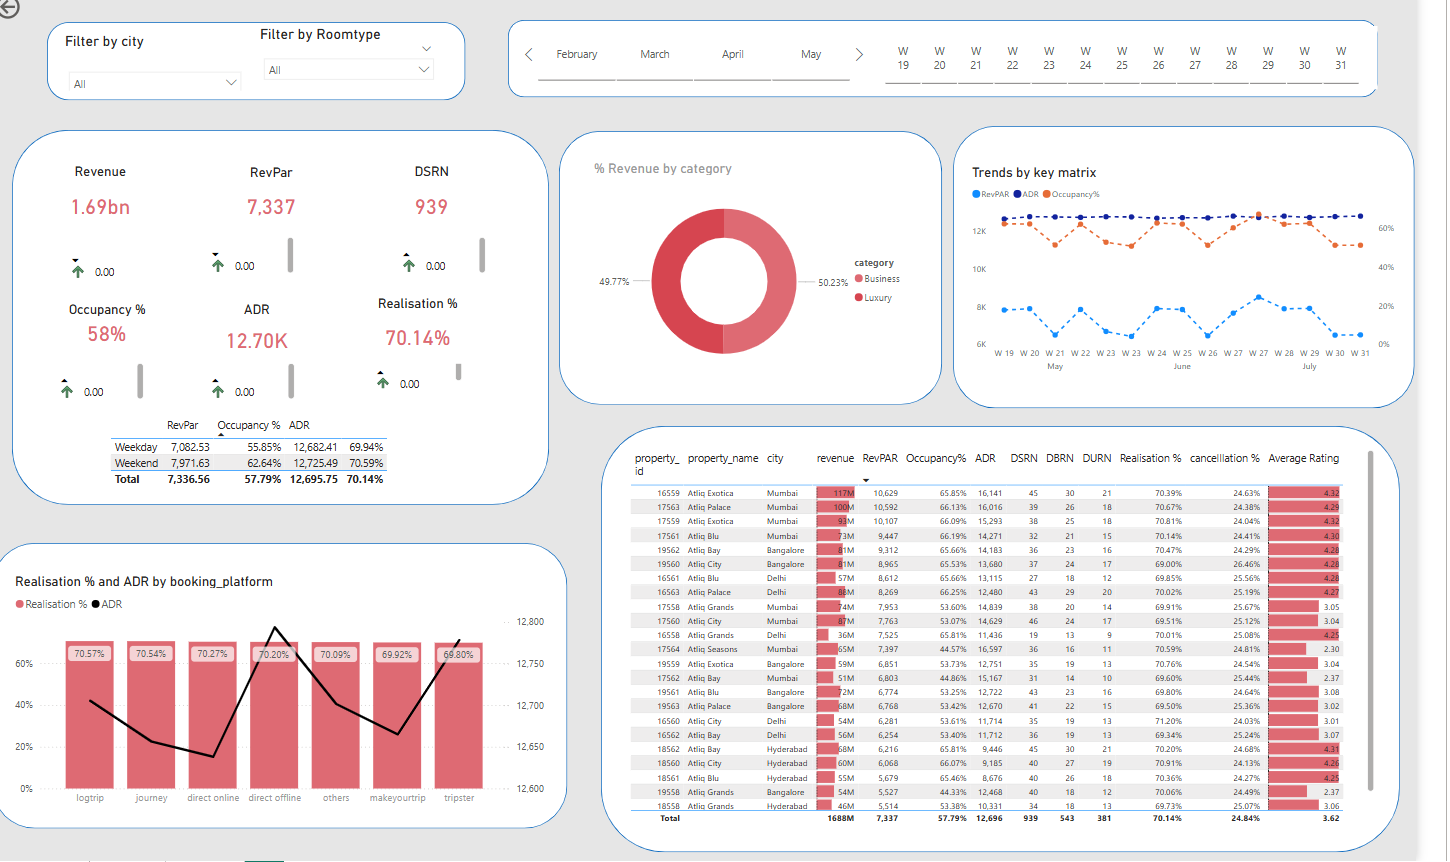

What the dashboard file says about the page in this screenshot:
{"tool":"powerbi","page":{"name":"Page 1","canvas":[1800,1100],"ordinal":0},"visuals":[{"type":"shape","box":[770,550,1010.4,539.1],"z":0},{"type":"shape","box":[0,698,727.9,361.2],"z":1000},{"type":"shape","box":[1215.4,171.1,584,357.2],"z":2000},{"type":"shape","box":[717,176.5,484.8,346.3],"z":3000},{"type":"shape","box":[25.8,175.2,679,474],"z":4000},{"type":"shape","box":[651.9,36.7,1100,97.8],"z":5000},{"type":"shape","box":[69.3,39.4,529.6,99.1],"z":6000},{"type":"tableEx","fields":{"Values":["dim_hotels.property_id","dim_hotels.property_name","dim_hotels.city","key measures.revenue","key measures.RevPAR","key measures.Occupancy%","key measures.ADR","key measures.DSRN","key measures.DBRN","key measures.DURN","key measures.Realisation %","key measures.cancelllation %"]},"box":[801.2,575.8,950.6,483.5],"z":7000},{"type":"donutChart","title":"% Revenue by category","fields":{"Category":["dim_hotels.category"],"Y":["key measures.Occupancy%"]},"box":[756.4,213.2,407.4,287.9],"z":8000},{"type":"lineChart","title":"Trends by key matrix","fields":{"Category":["dim_date.mmm yy.Variation.Date Hierarchy.Month","dim_date.week no"],"Y":["key measures.RevPAR","key measures.ADR"],"Y2":["key measures.Occupancy%"]},"box":[1234.4,218.6,545.9,277],"z":9000},{"type":"lineStackedColumnComboChart","fields":{"Category":["fact_bookings.booking_platform"],"Y":["key measures.Realisation %"],"Y2":["key measures.ADR"]},"box":[24.4,736,679,302.8],"z":10000},{"type":"tableEx","fields":{"Values":["dim_date.day_type","key measures.RevPAR","key measures.Occupancy%","key measures.ADR","key measures.Realisation %"]},"box":[144,533.7,407.4,101.9],"z":11000},{"type":"actionButton","box":[0,0,100,40],"z":12000},{"type":"tableEx","fields":{"Values":["key measures.Revenue WoW change %"]},"box":[507.9,305.6,120.9,55.7],"z":13000},{"type":"tableEx","fields":{"Values":["key measures.Revenue WoW change %"]},"box":[76,465.8,120.9,55.7],"z":14000},{"type":"tableEx","fields":{"Values":["key measures.Revenue WoW change %"]},"box":[266.2,465.8,120.9,55.7],"z":15000},{"type":"tableEx","fields":{"Values":["key measures.Revenue WoW change %"]},"box":[475.3,454.9,123.6,51.6],"z":16000},{"type":"card","title":"Occupancy %","fields":{"Values":["key measures.Occupancy%"]},"box":[59.8,392.5,172.5,62.5],"z":17000},{"type":"card","title":"ADR","fields":{"Values":["key measures.ADR"]},"box":[248.5,392.5,171.1,78.8],"z":18000},{"type":"card","title":"Realisation %","fields":{"Values":["key measures.Realisation %"]},"box":[452.2,384.3,171.1,86.9],"z":19000},{"type":"card","title":"DSRN","fields":{"Values":["key measures.DSRN"]},"box":[469.9,217.3,171.1,88.3],"z":20000},{"type":"tableEx","fields":{"Values":["key measures.Revenue WoW change %"]},"box":[266.2,305.6,119.5,55.7],"z":21000},{"type":"card","title":"RevPar","fields":{"Values":["key measures.RevPAR"]},"box":[266.2,218.6,172.5,86.9],"z":22000},{"type":"card","title":"Revenue","fields":{"Values":["key measures.revenue"]},"box":[50.2,217.3,172.5,88.3],"z":23000},{"type":"slicer","fields":{"Values":["dim_date.mmm yy.Variation.Date Hierarchy.Month"]},"box":[665.4,39.4,442.7,81.5],"z":24000},{"type":"slicer","fields":{"Values":["dim_date.week no"]},"box":[1104.1,44.8,647.8,80.1],"z":25000},{"type":"slicer","title":"Filter by city","fields":{"Values":["dim_hotels.city"]},"box":[86.9,53,237.7,73.3],"z":26000},{"type":"slicer","title":"Filter by Roomtype","fields":{"Values":["dim_rooms.room_class"]},"box":[334.1,44.8,234.9,88.3],"z":27000},{"type":"tableEx","fields":{"Values":["key measures.Revenue WoW change %"]},"box":[89.6,313.7,108.6,62.5],"z":28000}]}

Visuals, with their boxes in screenshot pixels (x1, y1, x2, y2), scaled from the page's 1800x1100 canvas onto the 1450x862 screenshot:
shape: rect(620, 431, 1434, 853)
shape: rect(0, 547, 586, 830)
shape: rect(979, 134, 1449, 414)
shape: rect(578, 138, 968, 410)
shape: rect(21, 137, 568, 509)
shape: rect(525, 29, 1411, 105)
shape: rect(56, 31, 482, 109)
tableEx - dim_hotels.property_id x dim_hotels.property_name: rect(645, 451, 1411, 830)
"% Revenue by category" donutChart: rect(609, 167, 938, 393)
"Trends by key matrix" lineChart: rect(994, 171, 1434, 388)
lineStackedColumnComboChart - fact_bookings.booking_platform x key measures.Realisation %: rect(20, 577, 567, 814)
tableEx - dim_date.day_type x key measures.RevPAR: rect(116, 418, 444, 498)
actionButton: rect(0, 0, 81, 31)
tableEx - key measures.Revenue WoW change %: rect(409, 239, 507, 283)
tableEx - key measures.Revenue WoW change %: rect(61, 365, 159, 409)
tableEx - key measures.Revenue WoW change %: rect(214, 365, 312, 409)
tableEx - key measures.Revenue WoW change %: rect(383, 356, 482, 397)
"Occupancy %" card: rect(48, 308, 187, 357)
"ADR" card: rect(200, 308, 338, 369)
"Realisation %" card: rect(364, 301, 502, 369)
"DSRN" card: rect(379, 170, 516, 239)
tableEx - key measures.Revenue WoW change %: rect(214, 239, 311, 283)
"RevPar" card: rect(214, 171, 353, 239)
"Revenue" card: rect(40, 170, 179, 239)
slicer - dim_date.mmm yy.Variation.Date Hierarchy.Month: rect(536, 31, 893, 95)
slicer - dim_date.week no: rect(889, 35, 1411, 98)
"Filter by city" slicer: rect(70, 42, 261, 99)
"Filter by Roomtype" slicer: rect(269, 35, 458, 104)
tableEx - key measures.Revenue WoW change %: rect(72, 246, 160, 295)
